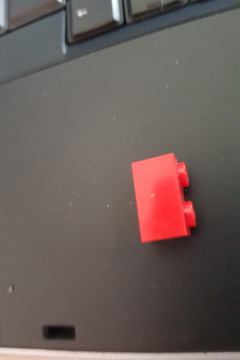1x2 red: (128, 151, 201, 248)
